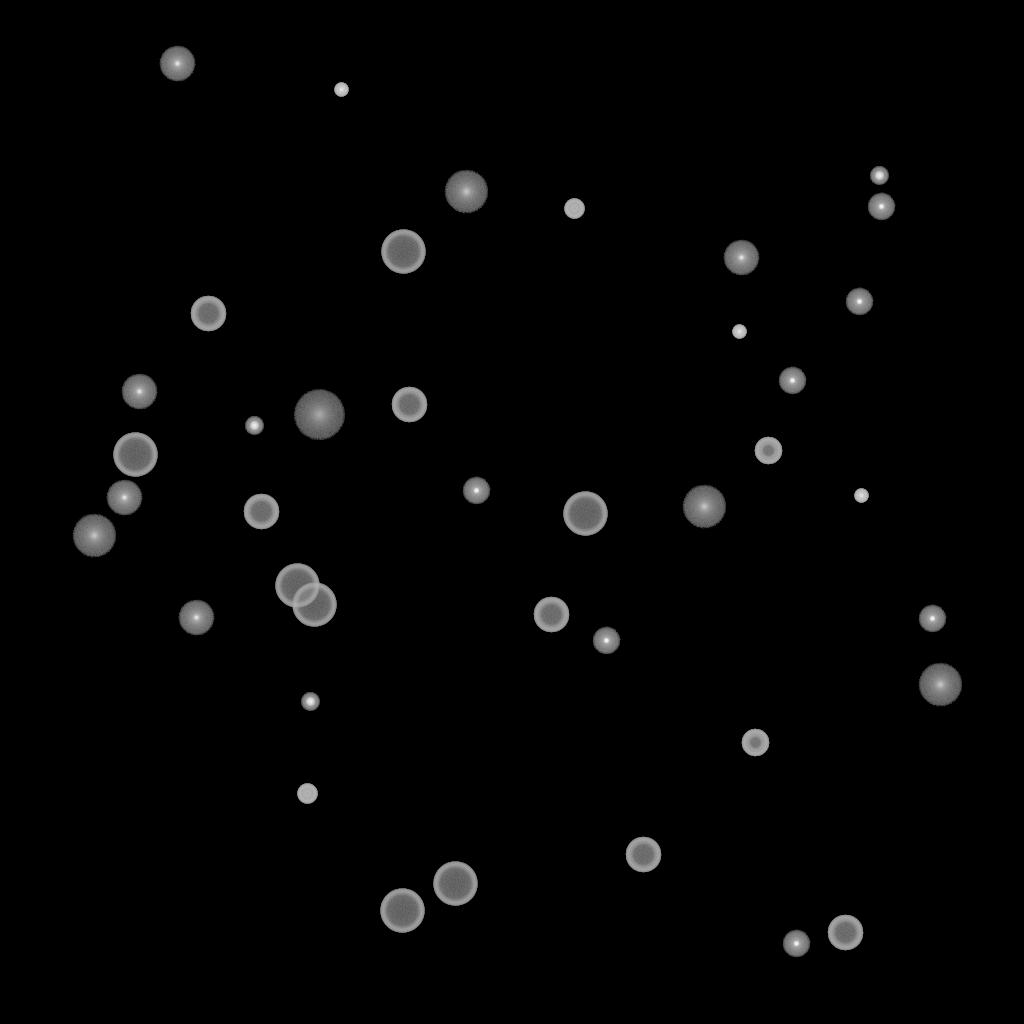depth:-10: (918, 605, 946, 633), (778, 367, 806, 395), (782, 930, 810, 958), (592, 627, 620, 655), (867, 193, 895, 221), (845, 288, 873, 316), (462, 477, 490, 505)
depth:-20: (245, 417, 263, 435), (870, 167, 888, 185), (301, 693, 319, 711)
depth:-30: (334, 83, 348, 97), (732, 325, 746, 339), (854, 489, 868, 503)
depth:-40: (297, 784, 317, 804), (564, 199, 584, 219)
depth:-50: (754, 437, 782, 465), (741, 729, 769, 757)
depth:-60: (533, 597, 569, 633), (243, 494, 279, 530), (625, 837, 661, 873), (391, 387, 427, 423), (827, 915, 863, 951), (190, 296, 226, 332)
depth:-70: (292, 583, 336, 627), (381, 230, 425, 274), (275, 564, 319, 608), (563, 492, 607, 536), (433, 862, 477, 906), (113, 433, 157, 477), (380, 889, 424, 933)
depth:0: (121, 374, 157, 410), (178, 600, 214, 636), (723, 240, 759, 276), (159, 46, 195, 82), (106, 480, 142, 516)
depth:10: (682, 485, 726, 529), (918, 663, 962, 707), (72, 514, 116, 558), (444, 170, 488, 214)
depth:20: (293, 390, 345, 440)
